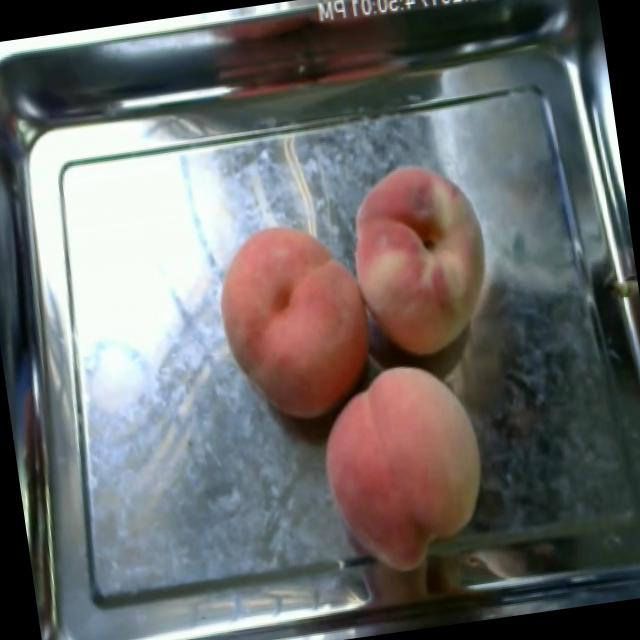Fruit: (300, 346, 509, 587), (200, 204, 388, 440), (334, 148, 508, 372)
